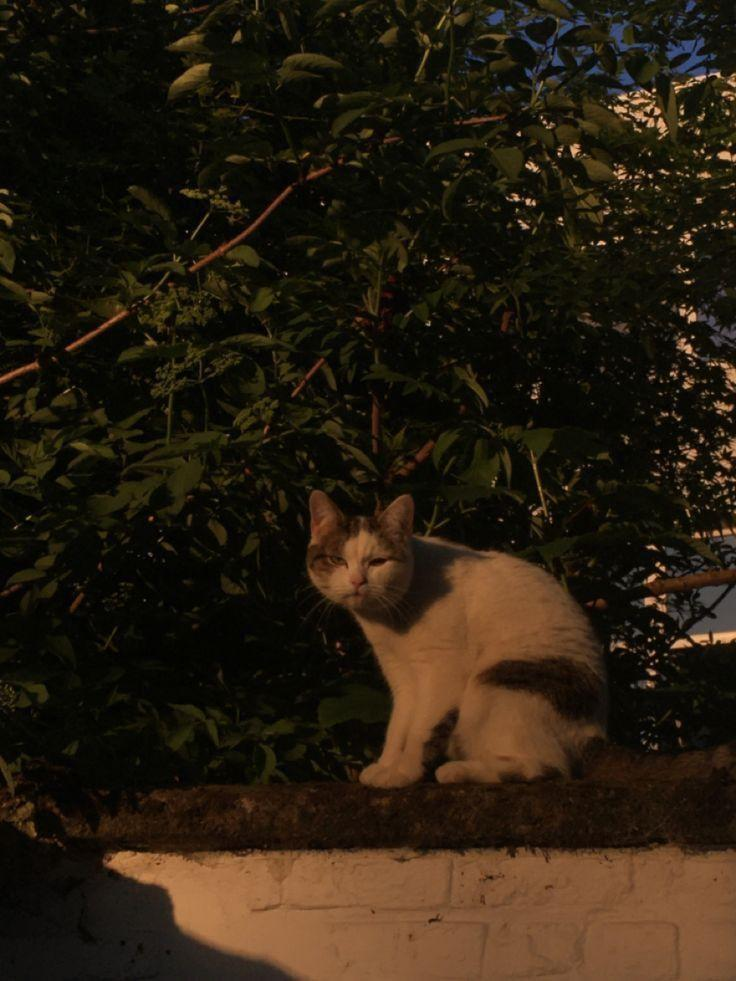kedo: (306, 493, 608, 784)
